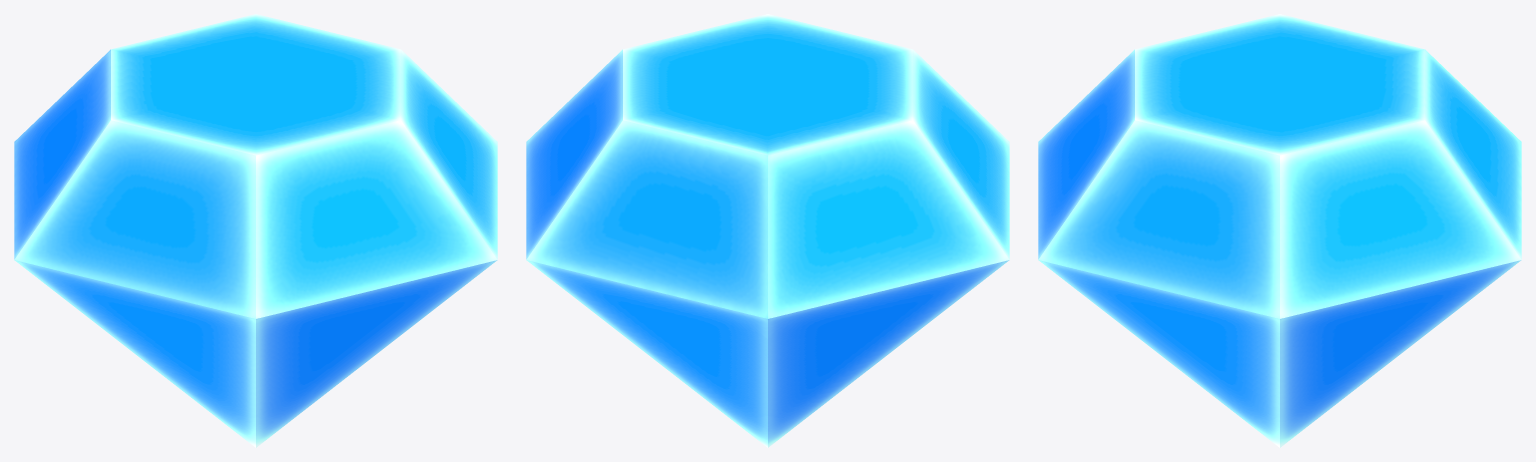
The model's file is blendertimer-diamond-4201.glb.
3 renders of one model, left to right at view 1: azimuth 30°, elevation 25°; view 2: azimuth 150°, elevation 25°; view 3: azimuth 270°, elevation 25°, orthographic.
Parts seen in each view (by area): view 1: Diamond; view 2: Diamond; view 3: Diamond.
Boxes of the visible parts, box(x1,y1,x2,y2) form: Diamond: box(14, 14, 497, 447); Diamond: box(526, 14, 1009, 447); Diamond: box(1038, 14, 1521, 447).
Size of the model in its own units: 2 by 1.44 by 1.73.
1 material, 1 textured.
